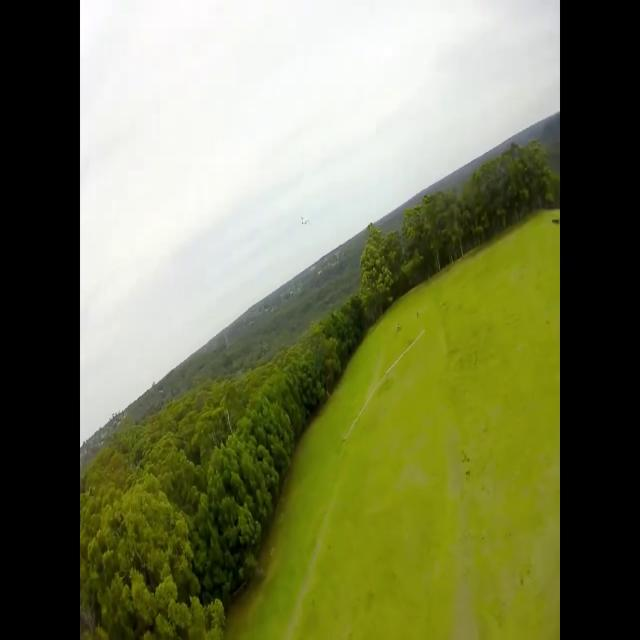iha: (304, 216, 310, 228)
